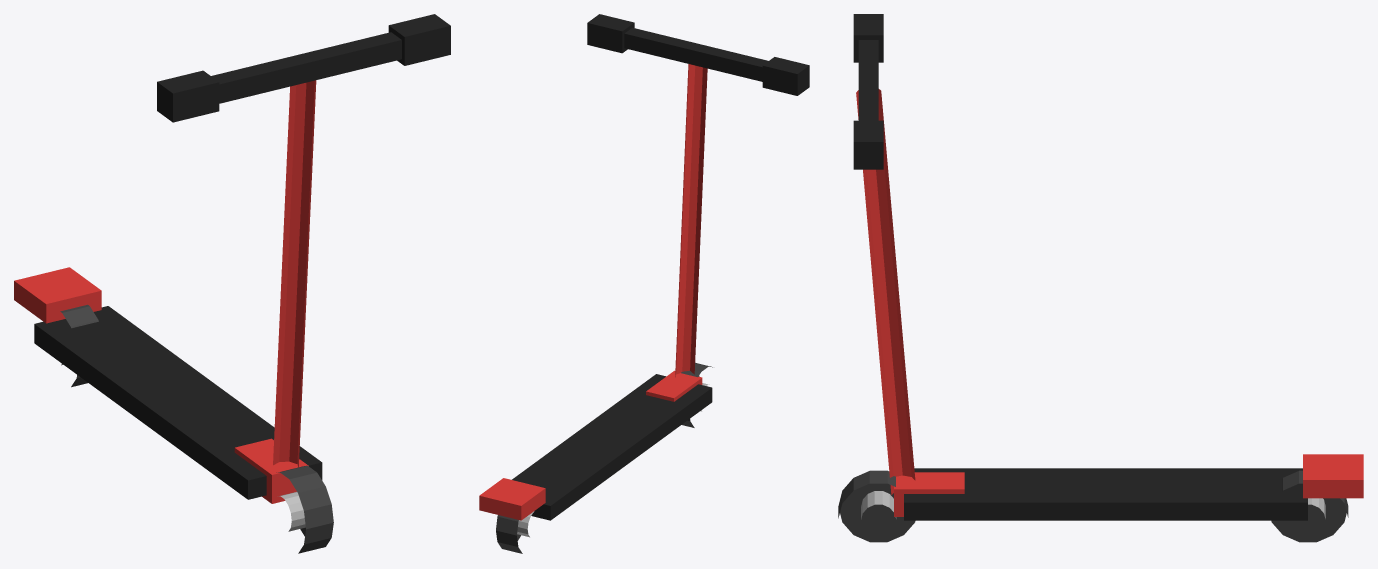
File: sparkcykel.glb
3 renders of one model, left to right at view 1: azimuth 30°, elevation 25°; view 2: azimuth 150°, elevation 25°; view 3: azimuth 270°, elevation 25°, orthographic. The views are drawn at different scales.
Visible parts, largest first — view 1: sparkcykel; view 2: sparkcykel; view 3: sparkcykel.
Boxes of the visible parts, <box> form: sparkcykel: <box>14,14,450,553</box>; sparkcykel: <box>479,14,809,553</box>; sparkcykel: <box>838,14,1363,542</box>.
Size of the model in its own units: 0.6001 by 1.03 by 1.04.
